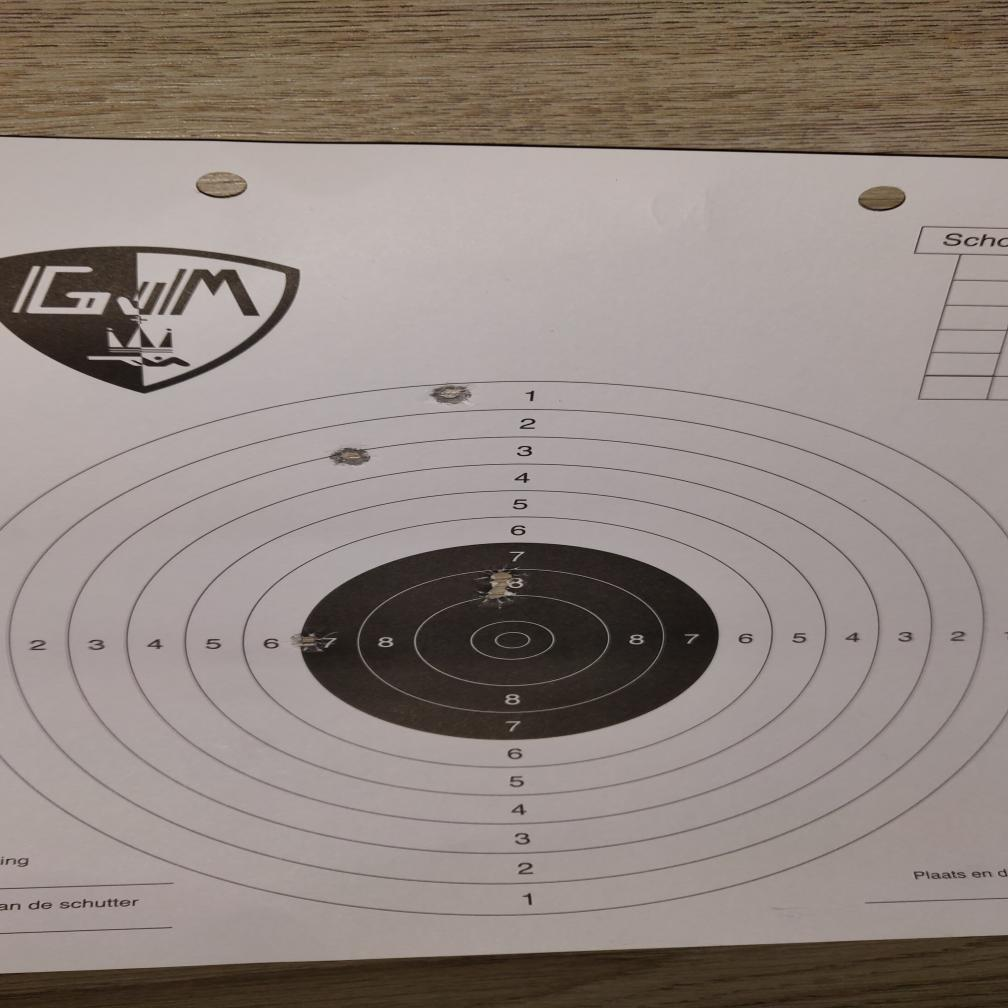1: (431, 383, 472, 403)
3: (330, 448, 372, 466)
7: (286, 629, 337, 653)
8: (480, 568, 520, 588)
9: (474, 589, 524, 606)
Target: (0, 377, 1008, 920)
black_contour: (299, 542, 720, 740)
